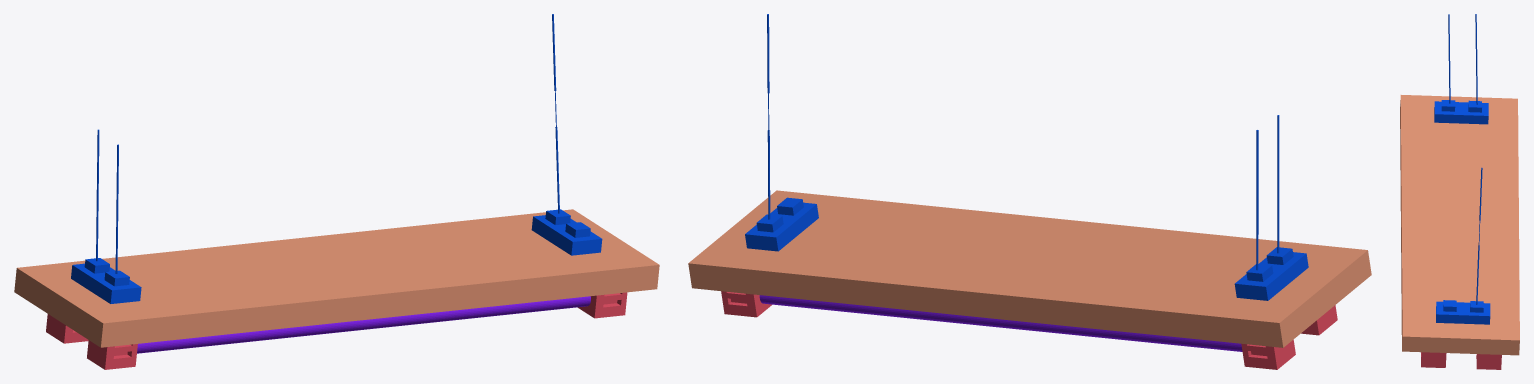
File: Light_Broken.fbx
3 renders of one model, left to right at view 1: azimuth 30°, elevation 25°; view 2: azimuth 150°, elevation 25°; view 3: azimuth 270°, elevation 25°, orthographic. The views are drawn at different scales.
Parts seen in each view (by area): view 1: Cube, Cube.005, Cylinder.001, Cube.001; view 2: Cube, Cube.005, Cylinder.001, Cube.001; view 3: Cube, Cube.005, Cube.001.
Boxes of the visible parts, <box> form: Cube: <box>14,209,659,347</box>; Cube.005: <box>71,14,602,303</box>; Cylinder.001: <box>137,296,590,353</box>; Cube.001: <box>46,292,627,369</box>; Cube: <box>688,190,1371,347</box>; Cube.005: <box>745,14,1308,300</box>; Cylinder.001: <box>759,295,1242,351</box>; Cube.001: <box>721,291,1337,369</box>; Cube: <box>1400,95,1519,355</box>; Cube.005: <box>1434,14,1490,324</box>; Cube.001: <box>1421,352,1501,369</box>.
Size of the model in its own units: 1289 by 613 by 346.
